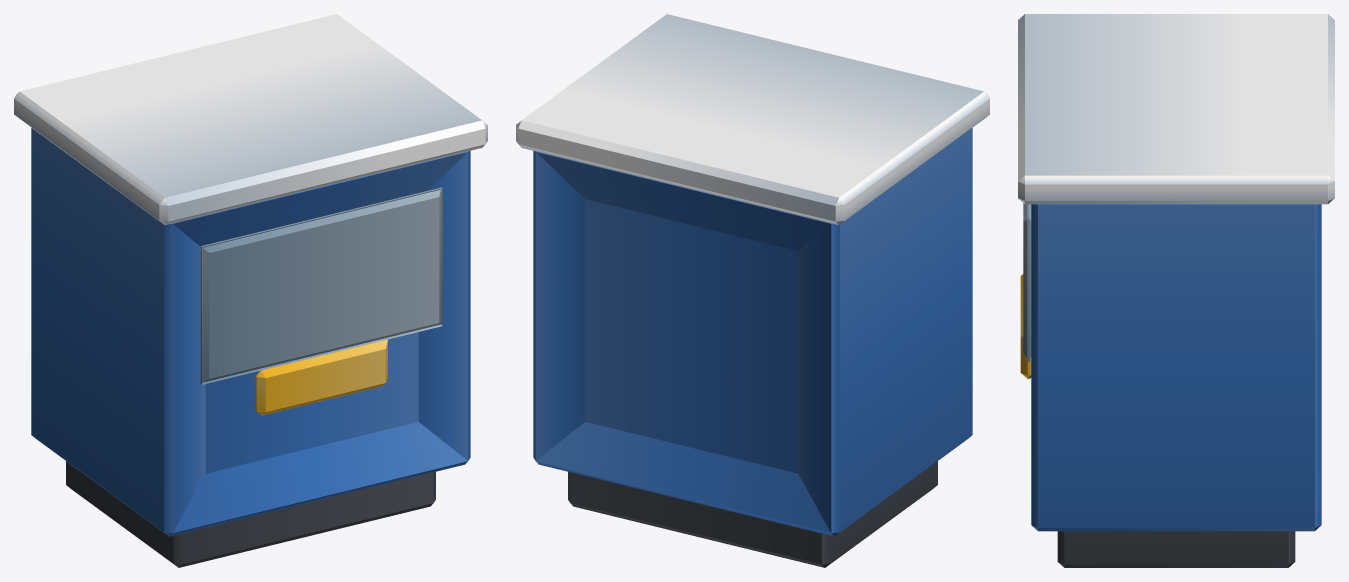
The model's file is dt_newspaper_box.fbx.
3 renders of one model, left to right at view 1: azimuth 30°, elevation 25°; view 2: azimuth 150°, elevation 25°; view 3: azimuth 270°, elevation 25°, orthographic. The views are drawn at different scales.
Visible parts, largest first — view 1: dt_newspaper_box; view 2: dt_newspaper_box; view 3: dt_newspaper_box.
Part boxes in pixels (left/top/right/bottom): dt_newspaper_box: left=14, top=14, right=487, bottom=567; dt_newspaper_box: left=516, top=14, right=989, bottom=567; dt_newspaper_box: left=1018, top=14, right=1334, bottom=567.
Bounding box in the file's own units: 263 × 300 × 211.
